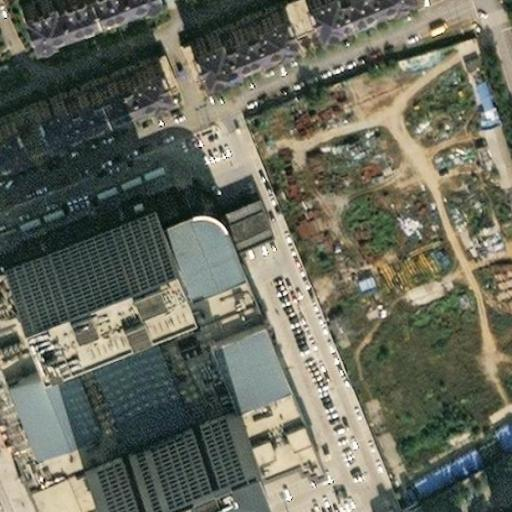building: (65, 392, 230, 493), (16, 44, 156, 126), (0, 341, 80, 441), (132, 194, 219, 282), (213, 370, 297, 460), (186, 301, 269, 392), (179, 0, 285, 60), (409, 438, 486, 496), (208, 185, 261, 237), (472, 71, 503, 122)
